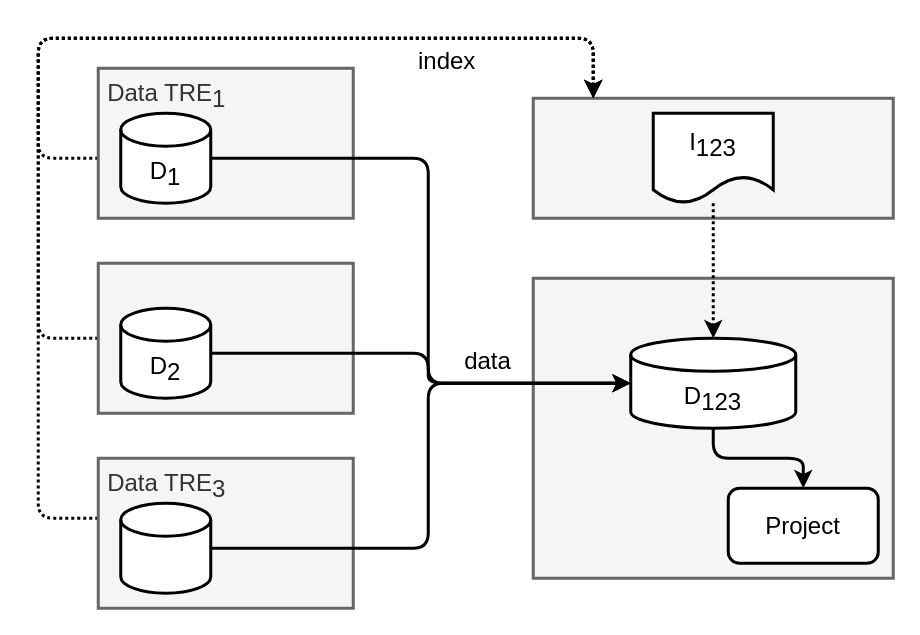
The diagram is 920 pixels wide and 635 high, and some of its shapes have lost their labels. Each missing label, with the box of its shape:
Analysis TRE: (531, 276, 894, 579)
D 3: (118, 501, 212, 594)
Data TRE 2: (96, 261, 354, 414)
Index service: (531, 96, 894, 219)
